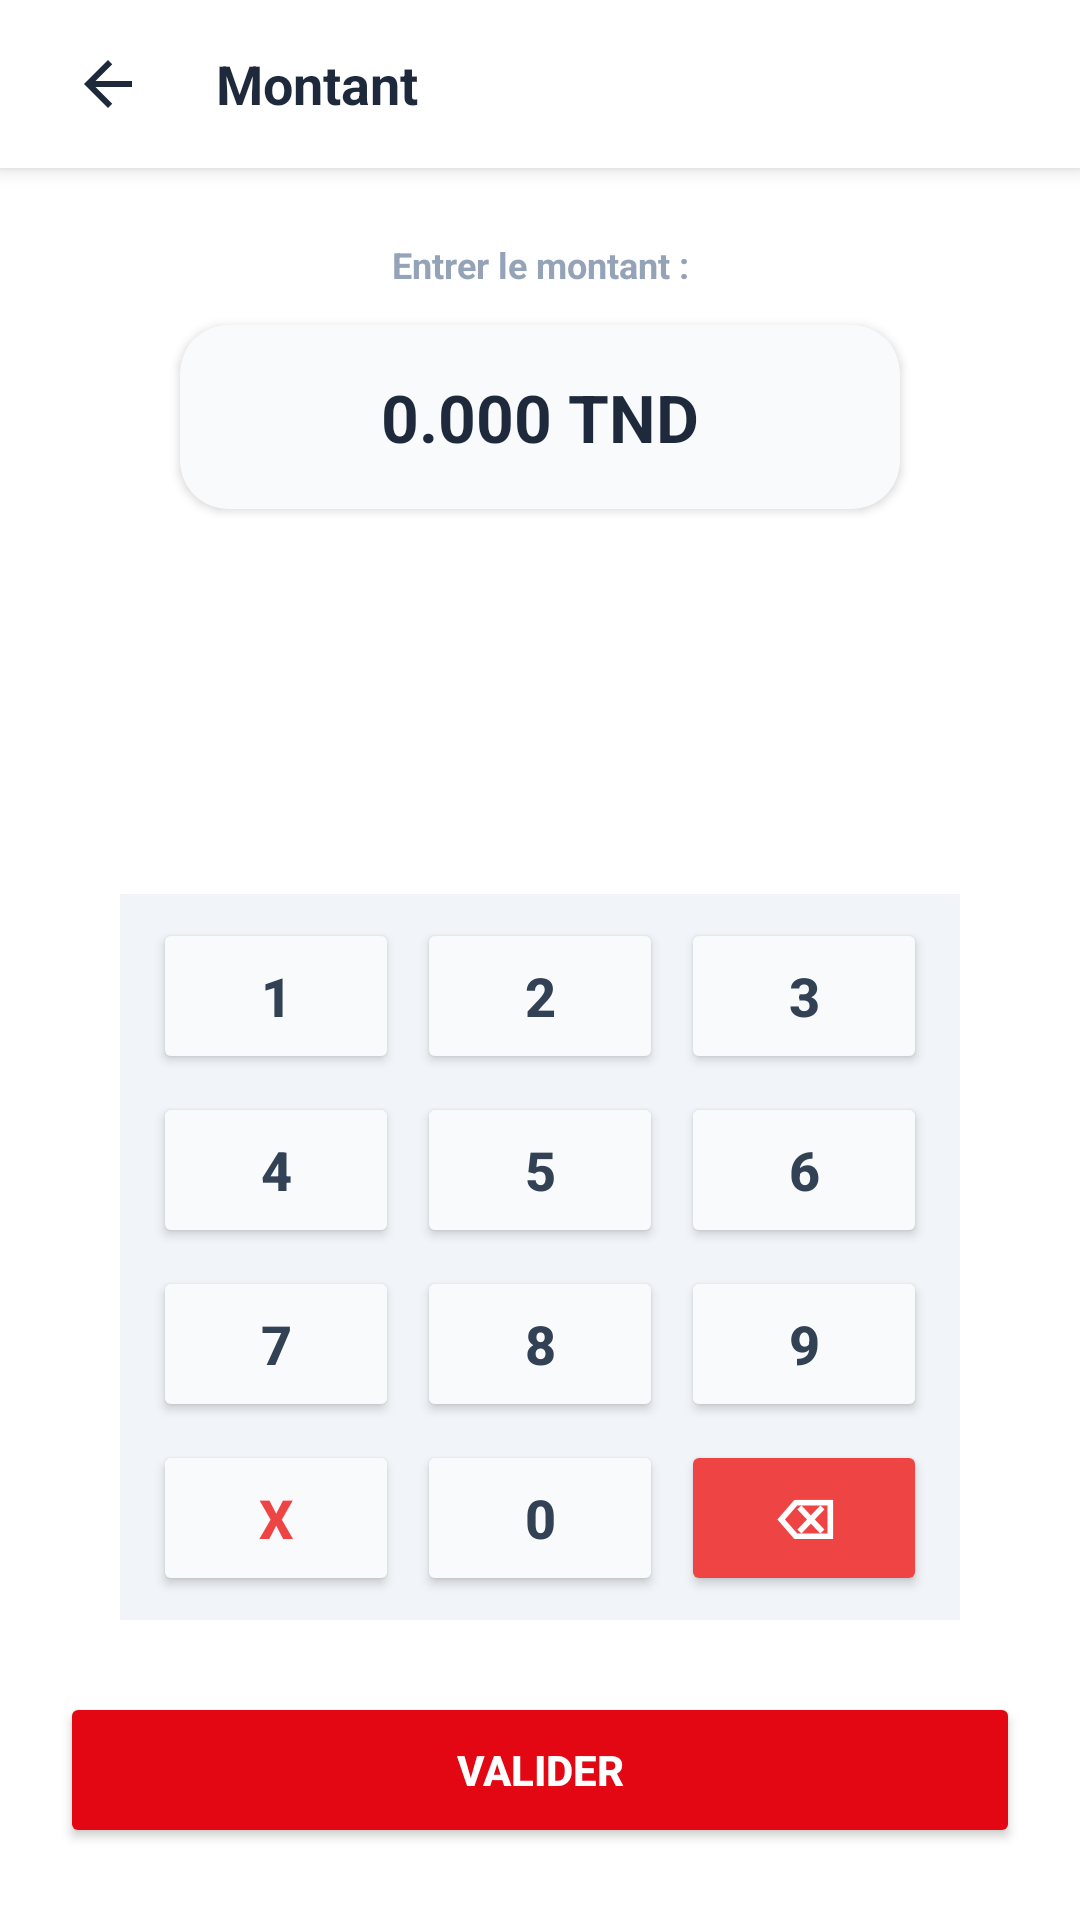

Where to tap for icons on this 1080x1920 app screen, as (x,y):
Retour: (108,84)
